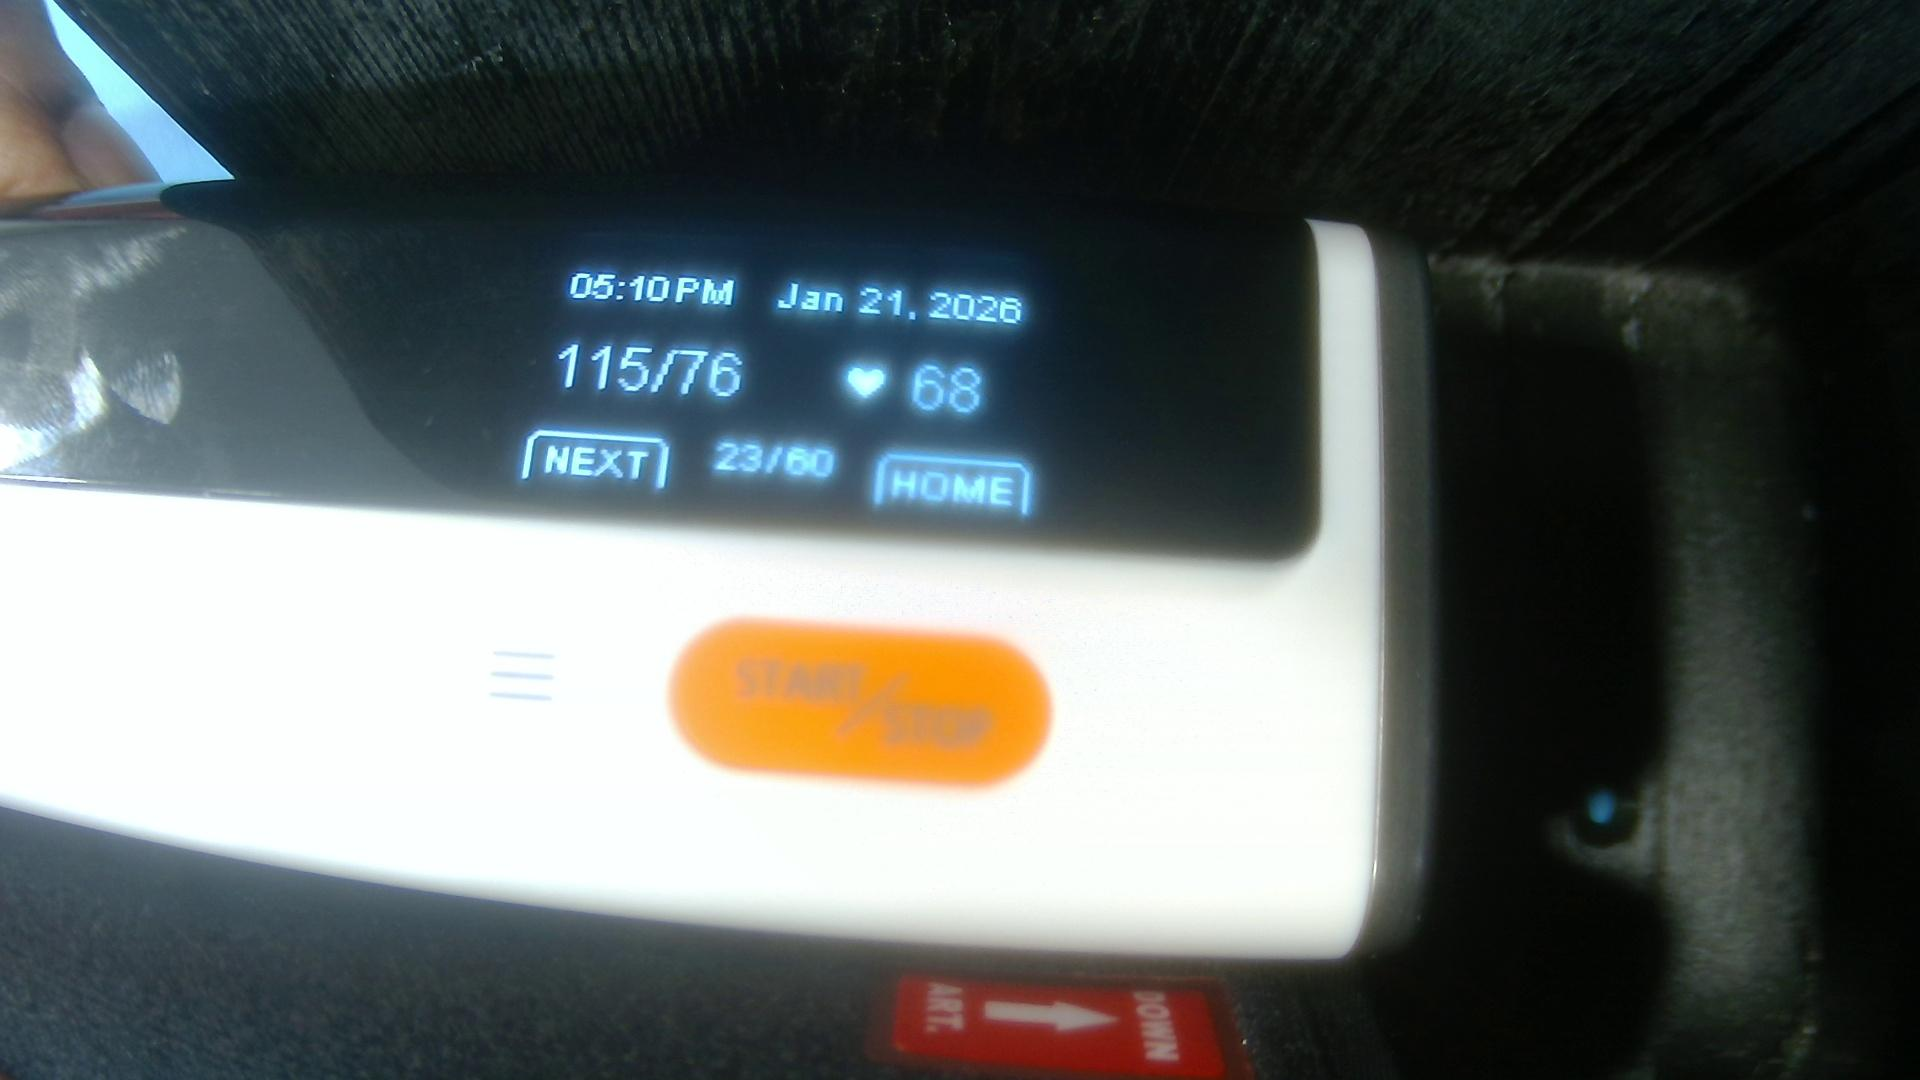DISPLAY: (17, 202, 1296, 562)
